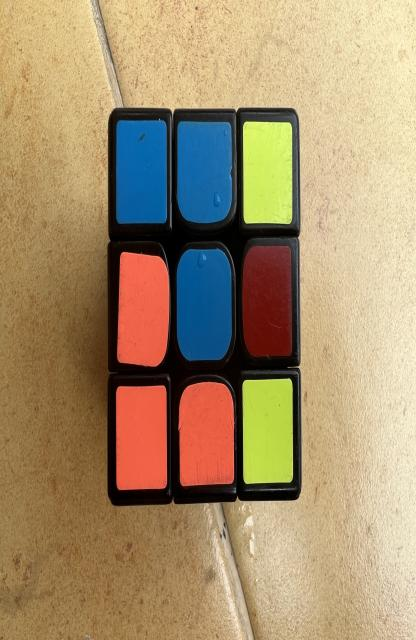Blue: (176, 248, 232, 362), (177, 120, 232, 223), (116, 120, 167, 223)
Orange: (117, 252, 170, 367), (179, 382, 234, 487), (116, 385, 167, 490)
Red: (242, 247, 292, 357)
Yellow: (242, 378, 293, 483), (243, 122, 292, 225)
